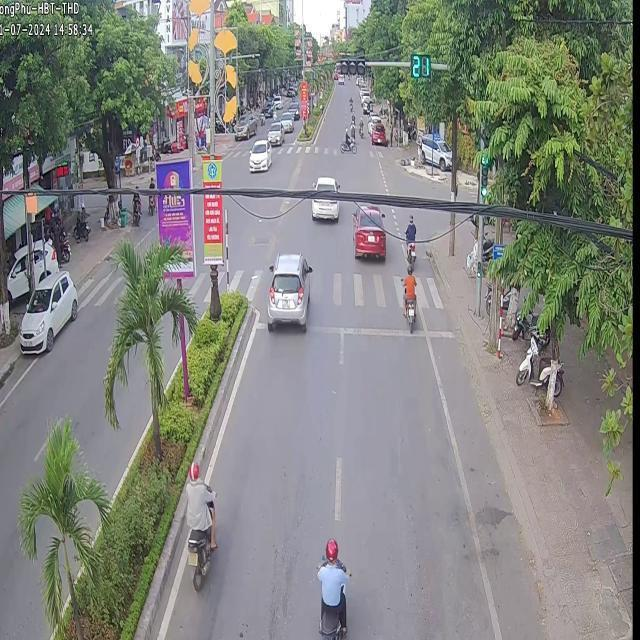car: (266, 251, 310, 329), (350, 202, 384, 257), (247, 138, 270, 170)
green_light: (478, 149, 489, 200), (338, 56, 364, 74)
motobike: (184, 460, 214, 588), (316, 536, 349, 638), (402, 262, 414, 340)
stop_line: (255, 320, 451, 337)
